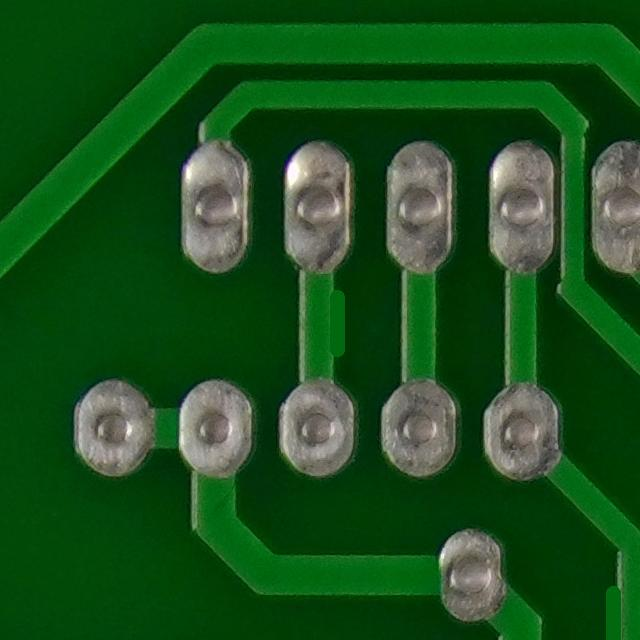spur: (268, 277, 373, 364)
